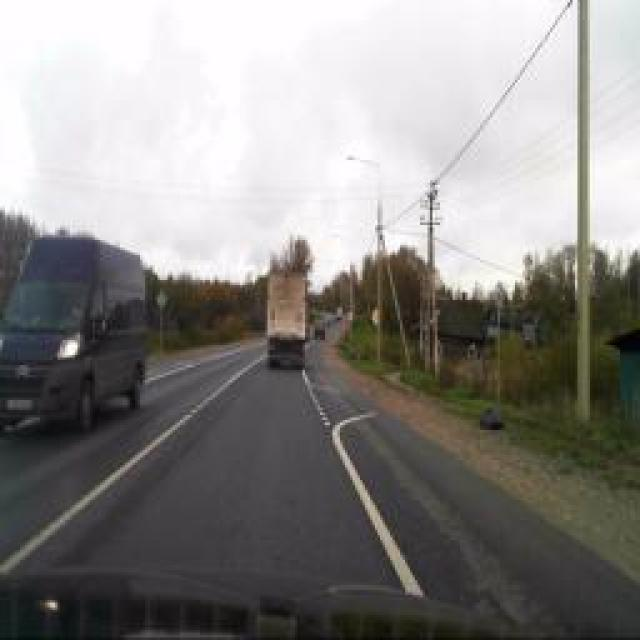sign: (371, 309, 381, 326)
